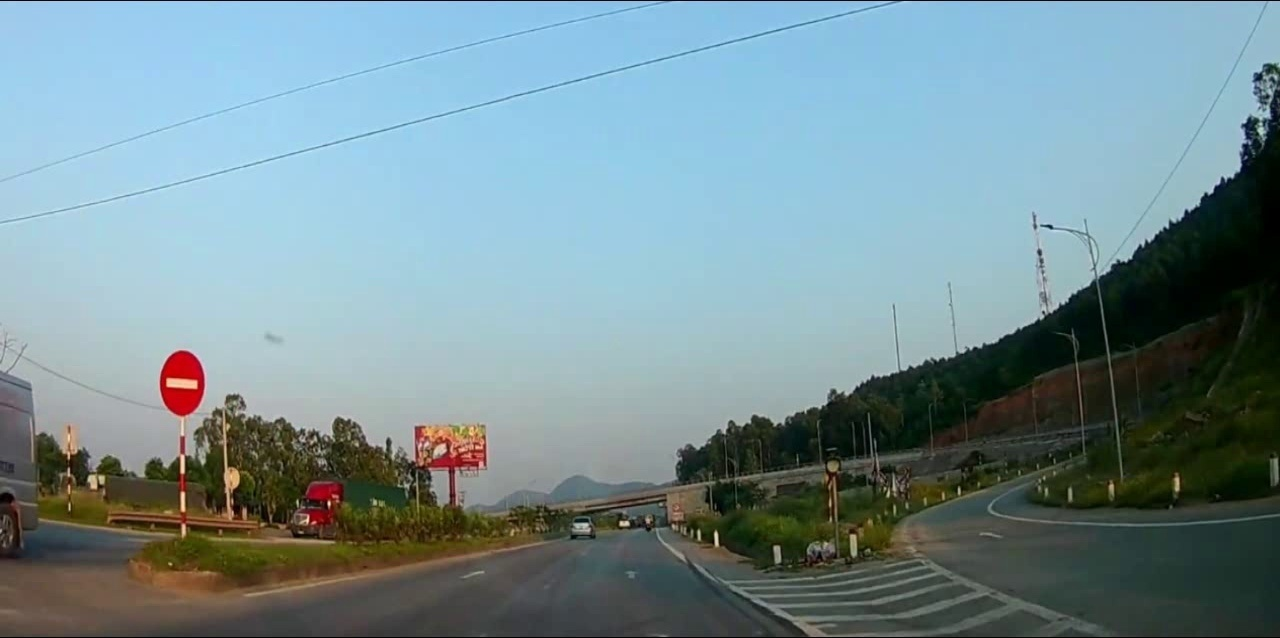Cam di nguoc chieu: (160, 350, 206, 418)
